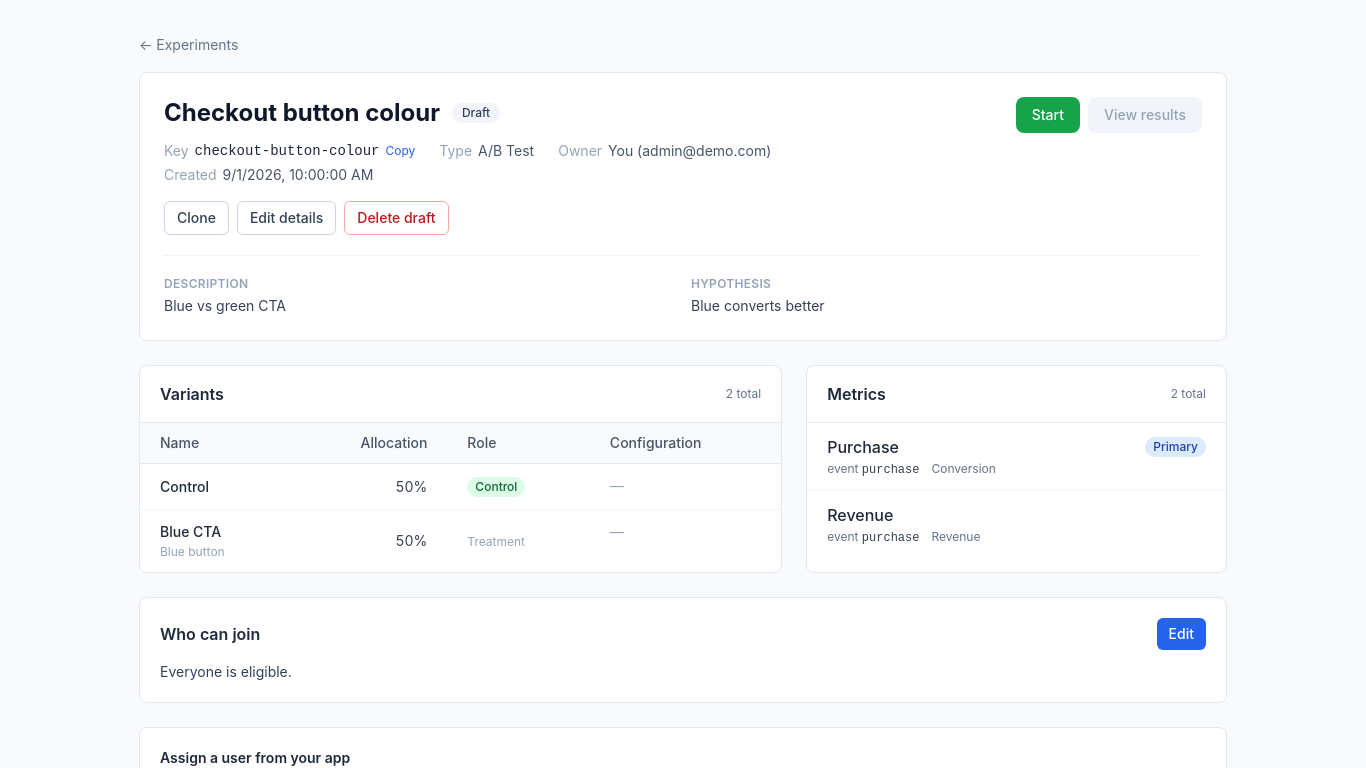
Test: ExperimentDetailPage — lifecycle actions › surfaces the backend error and keeps the old status when a transition fails
The width and height of the screenshot is (1366, 768).
What coordinates should you click on to do the following:
click the button with test id "action-start"
I would click on:
 (1048, 115)
Its box is [1016,97,1080,133].
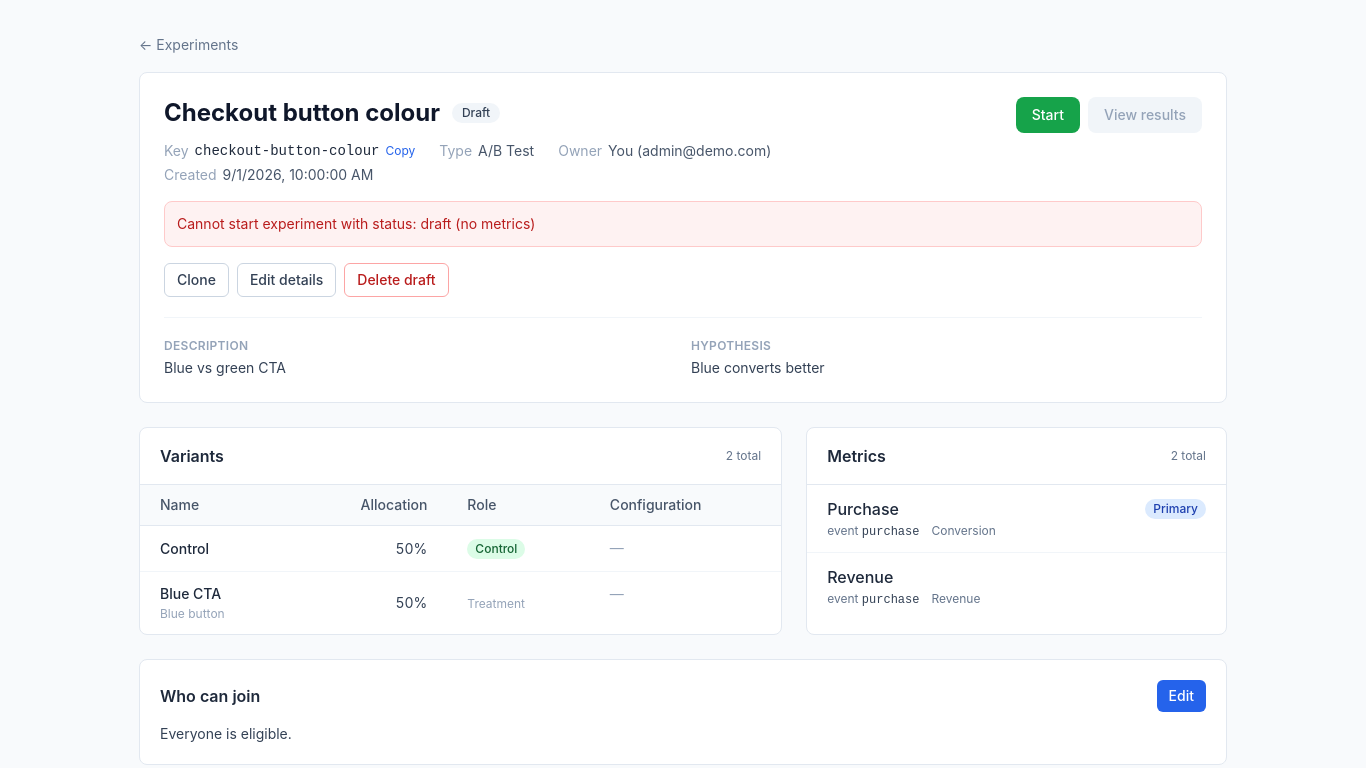
Expected: the text with test id "experiment-status" reads "Draft", [462,105,490,120]
Expected: the message with test id "action-error" reads "Cannot start experiment with status: draft (no metrics)", [177,215,535,232]
